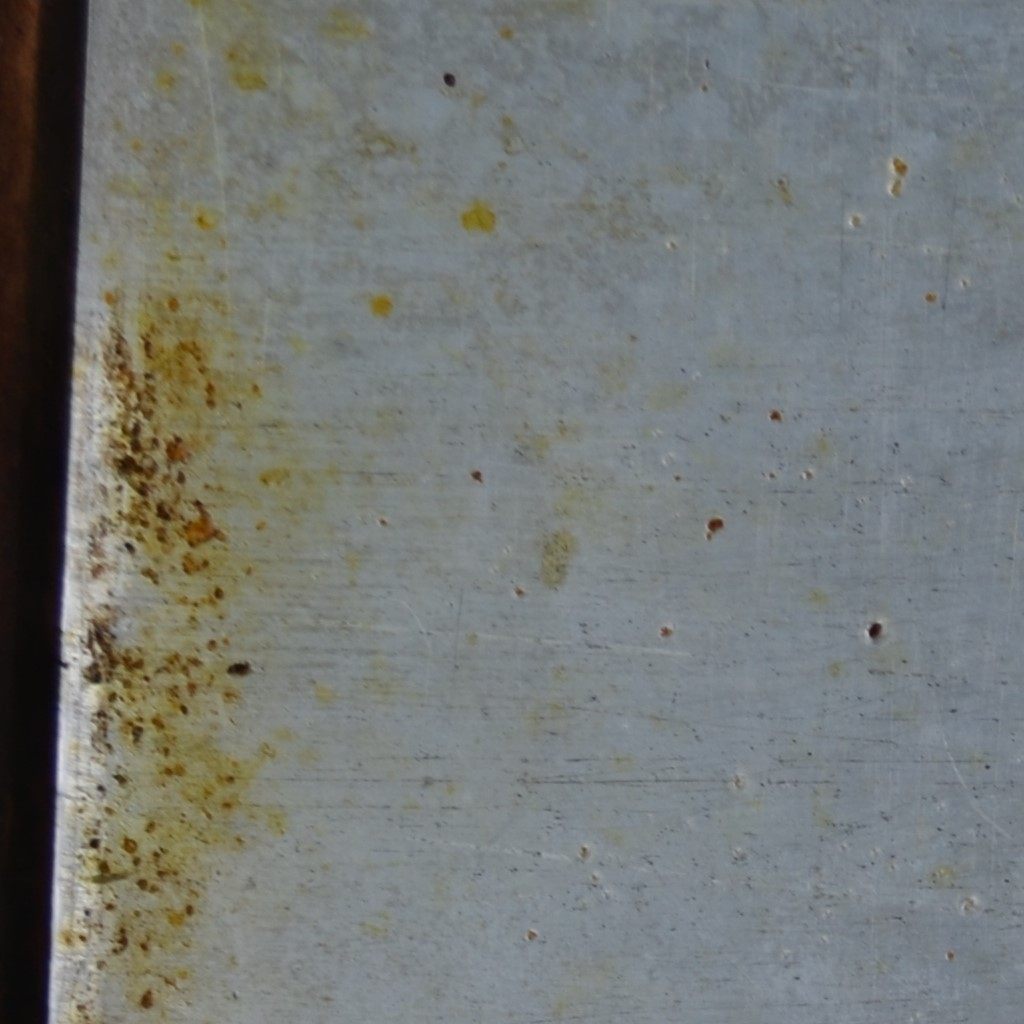varroa: (866, 616, 886, 644), (708, 513, 727, 536), (442, 63, 456, 89)
